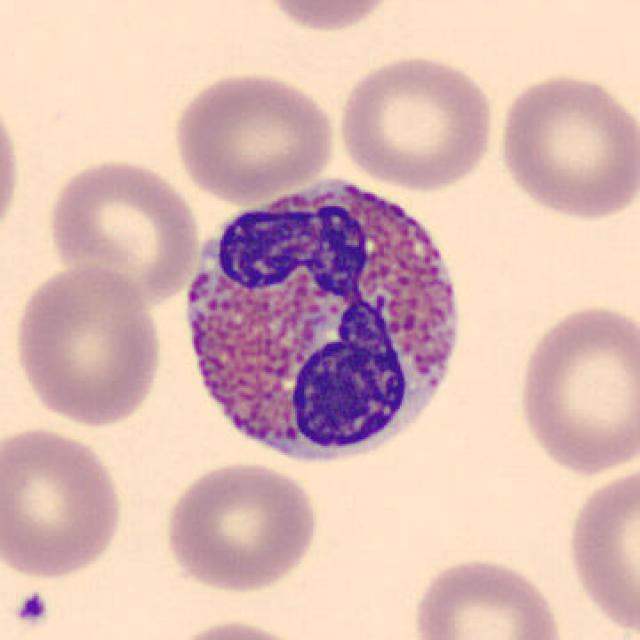Eosinophil: (169, 157, 482, 483)
Platelets: (13, 589, 52, 629)
RBC: (11, 261, 165, 430), (42, 154, 202, 310), (169, 67, 339, 205), (332, 51, 498, 192), (512, 298, 638, 478), (492, 69, 636, 222), (160, 458, 322, 594), (0, 423, 128, 582), (560, 457, 638, 638), (407, 553, 569, 640), (256, 0, 403, 35), (0, 87, 25, 252), (162, 615, 311, 640)
